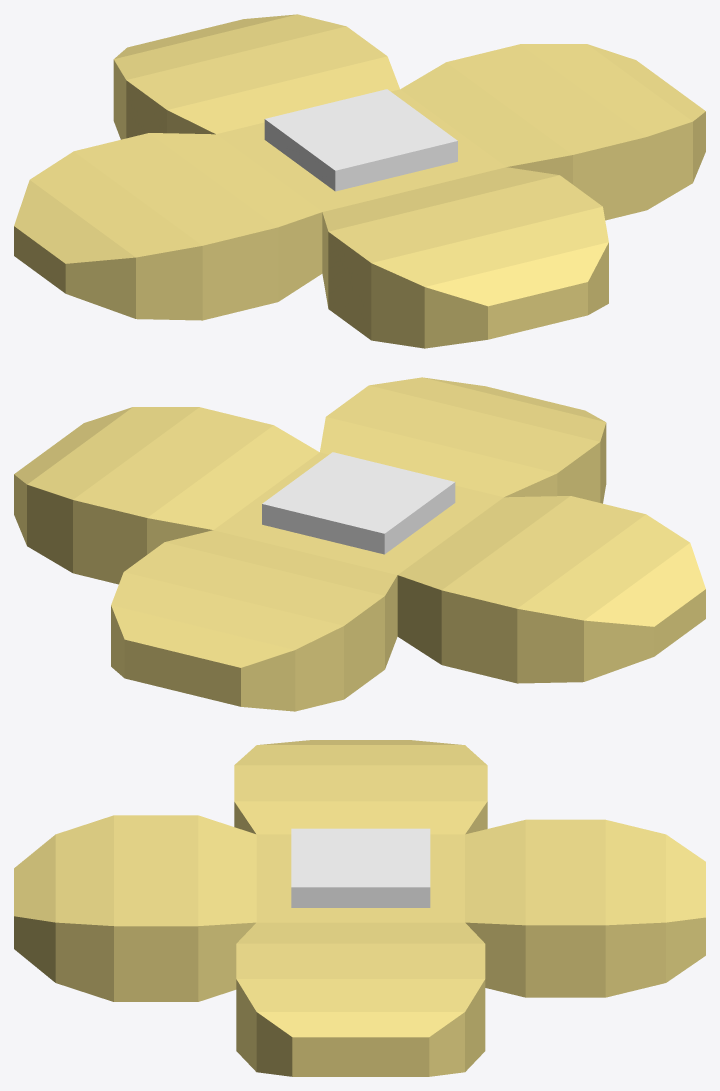
The model's file is chicken_acc_flowerring.fbx.
3 views of the same model, one above another, from view 1: azimuth 30°, elevation 25°; view 2: azimuth 150°, elevation 25°; view 3: azimuth 270°, elevation 25° (orthographic).
Visible parts, largest first — view 1: Cube; view 2: Cube; view 3: Cube.
Boxes of the visible parts, x1,y1,x2,y2 form: Cube: [14, 14, 705, 348]; Cube: [14, 377, 705, 711]; Cube: [14, 740, 705, 1076].
Bounding box in the file's own units: 686 × 93.7 × 663.
